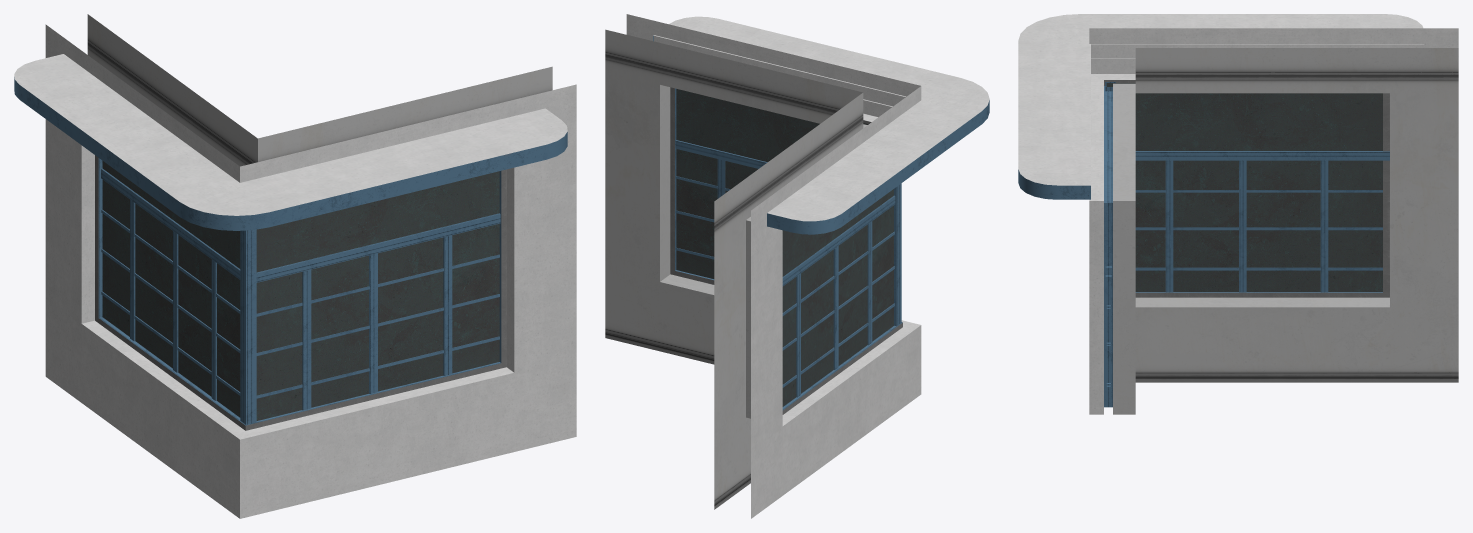
File: MB_Wall_Window_B_01.fbx
The picture shows the model from 3 angles, left to right: view 1: azimuth 30°, elevation 25°; view 2: azimuth 150°, elevation 25°; view 3: azimuth 270°, elevation 25°; orthographic projection. The views are drawn at different scales.
Visible parts, largest first — view 1: MB_Wall_Window_B_01_LOD0; view 2: MB_Wall_Window_B_01_LOD0; view 3: MB_Wall_Window_B_01_LOD0.
Part boxes in pixels (left/top/right/bottom): MB_Wall_Window_B_01_LOD0: left=14, top=14, right=576, bottom=518; MB_Wall_Window_B_01_LOD0: left=605, top=14, right=989, bottom=518; MB_Wall_Window_B_01_LOD0: left=1018, top=14, right=1458, bottom=414.
Size of what is drawn, in the model's own units: 477 by 400 by 477.
